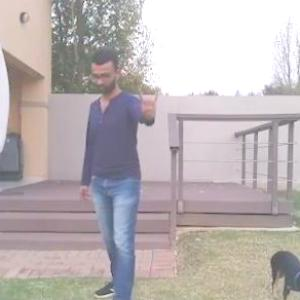takeoff-hand: (134, 84, 163, 122)
